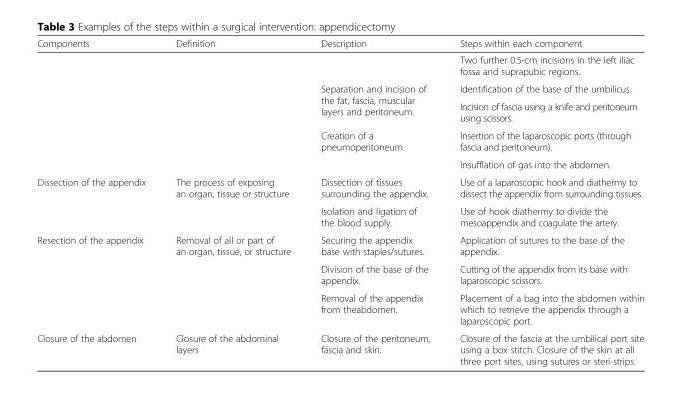table: (36, 37, 643, 366)
table column: (444, 37, 643, 366), (160, 37, 305, 366), (305, 37, 444, 366), (36, 37, 160, 366)
table column header: (36, 37, 643, 51)
table row: (36, 288, 643, 329), (36, 329, 643, 366), (36, 97, 643, 126), (36, 126, 643, 155), (36, 172, 643, 201), (36, 201, 643, 230), (36, 230, 643, 259), (36, 259, 643, 288), (36, 51, 643, 79), (36, 79, 643, 97), (36, 155, 643, 172), (36, 37, 643, 51)
table spanning cell: (160, 230, 305, 329), (36, 230, 160, 329), (160, 172, 305, 230), (36, 172, 160, 230), (305, 79, 444, 126), (305, 126, 444, 172)
